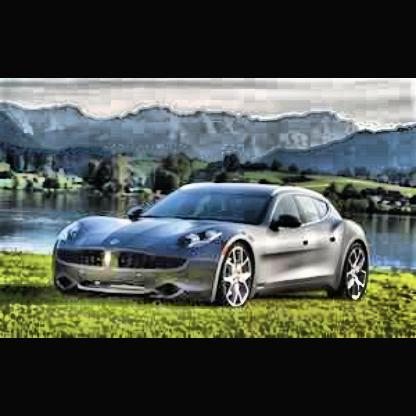Fisker Karma Sedan 2012: (53, 181, 374, 312)
